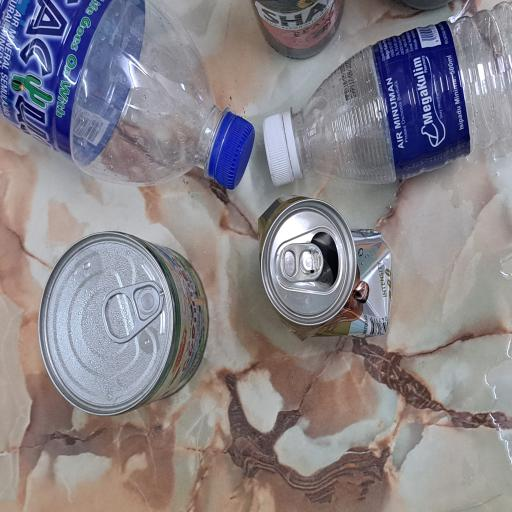can: (72, 49, 211, 279), (126, 341, 238, 512)
glass bottle: (339, 334, 384, 457)
plastic bottle: (245, 0, 384, 302), (248, 388, 384, 512)
plastic bottle cap: (244, 279, 300, 342), (245, 350, 301, 399)
pop tab: (126, 136, 175, 220), (173, 372, 203, 430)
